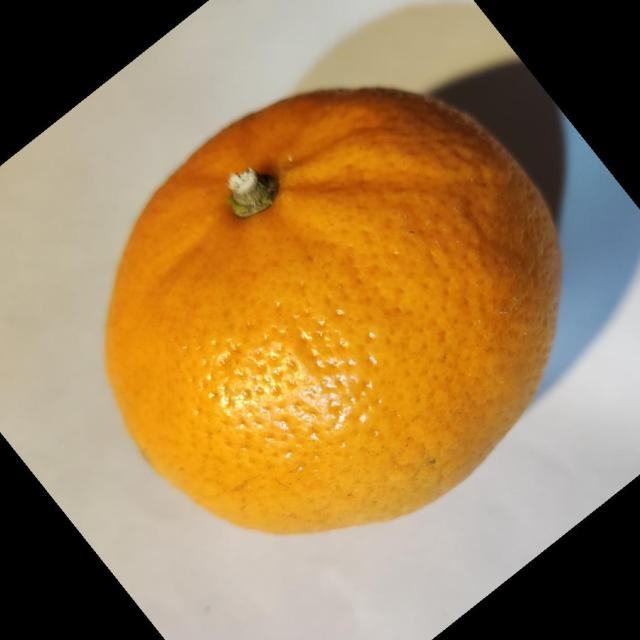agrume: (103, 84, 562, 535)
